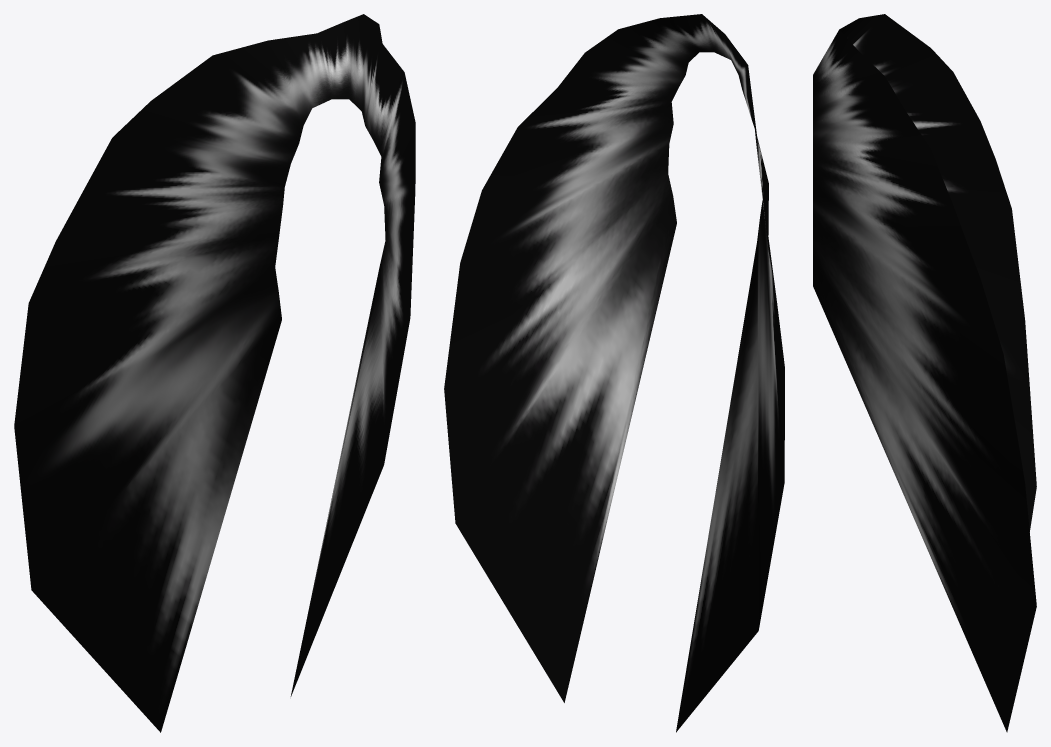
File: fx_blade_rush.FBX
3 views of the same model, side by side, from view 1: azimuth 30°, elevation 25°; view 2: azimuth 150°, elevation 25°; view 3: azimuth 270°, elevation 25° (orthographic). The views are drawn at different scales.
Visible parts, largest first — view 1: blade_rush_ground_smoke; view 2: blade_rush_ground_smoke; view 3: blade_rush_ground_smoke.
Boxes of the visible parts, <box> form: blade_rush_ground_smoke: <box>14,14,415,732</box>; blade_rush_ground_smoke: <box>444,14,784,732</box>; blade_rush_ground_smoke: <box>813,14,1036,732</box>.
Bounding box in the file's own units: 381 × 691 × 207.
